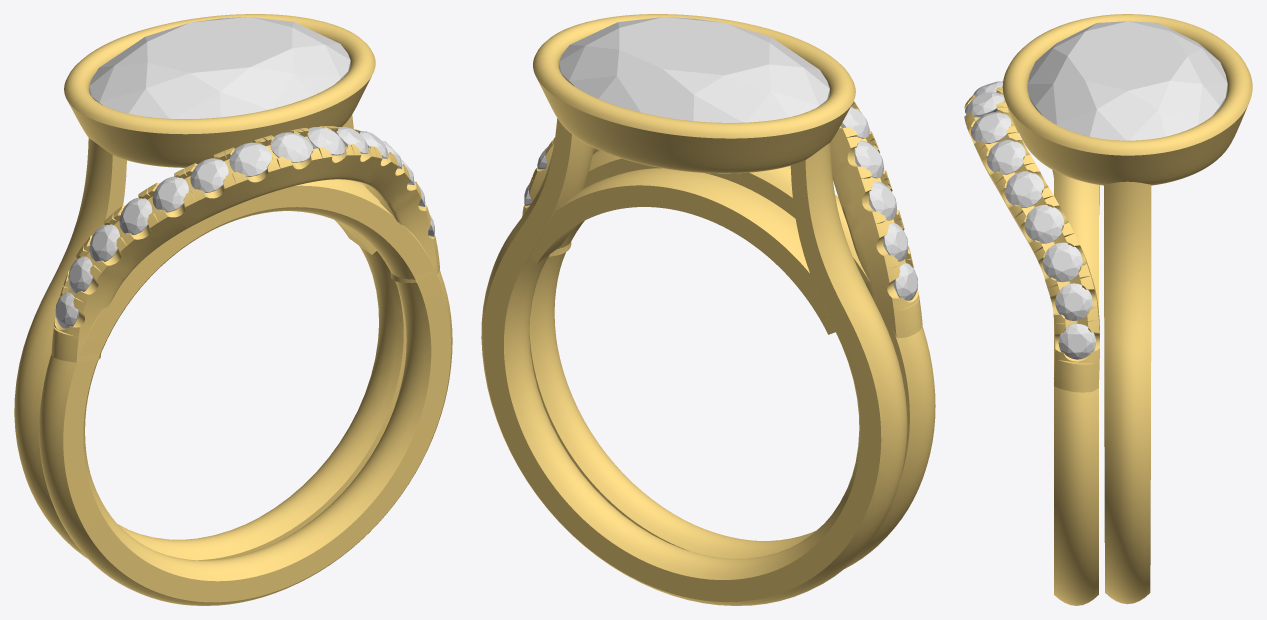
Rendered from BrendanHersYGlevels.glb.
The picture shows the model from 3 angles, left to right: view 1: azimuth 30°, elevation 25°; view 2: azimuth 150°, elevation 25°; view 3: azimuth 270°, elevation 25°; orthographic projection. The views are drawn at different scales.
Parts seen in each view (by area): view 1: Brendan hers YG for 3d model, Brendan hers dia for 3d model.016, Brendan hers dia for 3d model.006, Brendan hers dia for 3d model.005, Brendan hers dia for 3d model.007, Brendan hers dia for 3d model.004, Brendan hers dia for 3d model.003, Brendan hers dia for 3d model.002, Brendan hers dia for 3d model.008, Brendan hers dia for 3d model.001, Brendan hers dia for 3d model; view 2: Brendan hers YG for 3d model, Brendan hers dia for 3d model.016, Brendan hers dia for 3d model.002, Brendan hers dia for 3d model.003, Brendan hers dia for 3d model.001, Brendan hers dia for 3d model; view 3: Brendan hers YG for 3d model, Brendan hers dia for 3d model.016, Brendan hers dia for 3d model.012, Brendan hers dia for 3d model.011, Brendan hers dia for 3d model.010, Brendan hers dia for 3d model.013, Brendan hers dia for 3d model.014, Brendan hers dia for 3d model.009, Brendan hers dia for 3d model.008, Brendan hers dia for 3d model.007.
Part boxes in pixels (<box>): Brendan hers YG for 3d model: <box>14,14,452,605</box>; Brendan hers dia for 3d model.016: <box>89,17,350,118</box>; Brendan hers dia for 3d model.006: <box>229,142,272,176</box>; Brendan hers dia for 3d model.005: <box>190,158,228,192</box>; Brendan hers dia for 3d model.007: <box>270,132,312,162</box>; Brendan hers dia for 3d model.004: <box>152,176,188,212</box>; Brendan hers dia for 3d model.003: <box>119,197,152,235</box>; Brendan hers dia for 3d model.002: <box>89,224,119,261</box>; Brendan hers dia for 3d model.008: <box>307,127,345,155</box>; Brendan hers dia for 3d model.001: <box>68,256,93,293</box>; Brendan hers dia for 3d model: <box>55,292,78,328</box>; Brendan hers YG for 3d model: <box>481,14,935,605</box>; Brendan hers dia for 3d model.016: <box>559,17,829,122</box>; Brendan hers dia for 3d model.002: <box>868,181,896,220</box>; Brendan hers dia for 3d model.003: <box>854,140,884,178</box>; Brendan hers dia for 3d model.001: <box>883,223,908,261</box>; Brendan hers dia for 3d model: <box>893,263,917,300</box>; Brendan hers YG for 3d model: <box>964,14,1252,605</box>; Brendan hers dia for 3d model.016: <box>1027,21,1227,140</box>; Brendan hers dia for 3d model.012: <box>1042,242,1082,282</box>; Brendan hers dia for 3d model.011: <box>1024,205,1064,243</box>; Brendan hers dia for 3d model.010: <box>1005,171,1044,207</box>; Brendan hers dia for 3d model.013: <box>1055,283,1092,320</box>; Brendan hers dia for 3d model.014: <box>1058,323,1096,359</box>; Brendan hers dia for 3d model.009: <box>987,140,1025,174</box>; Brendan hers dia for 3d model.008: <box>971,112,1011,143</box>; Brendan hers dia for 3d model.007: <box>965,92,1004,117</box>.
Bounding box in the file's own units: 18.58 × 23.32 × 11.54.
